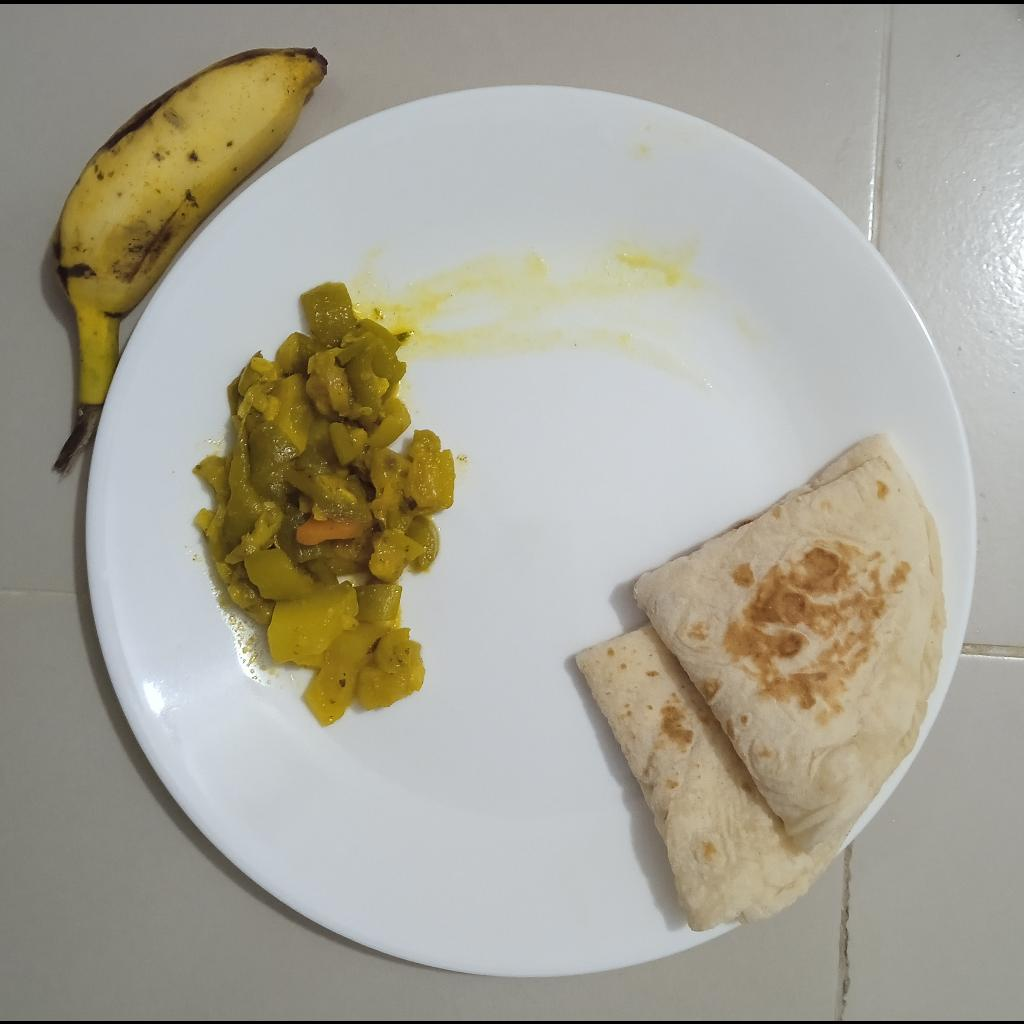banana: (52, 45, 326, 405)
ruti: (568, 431, 945, 934)
vegetable: (196, 280, 453, 726)
